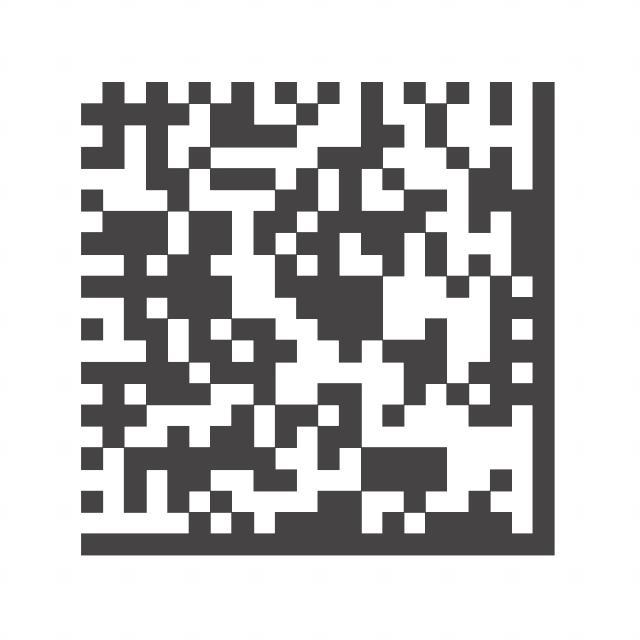Data-Matrix: (72, 69, 572, 563)
